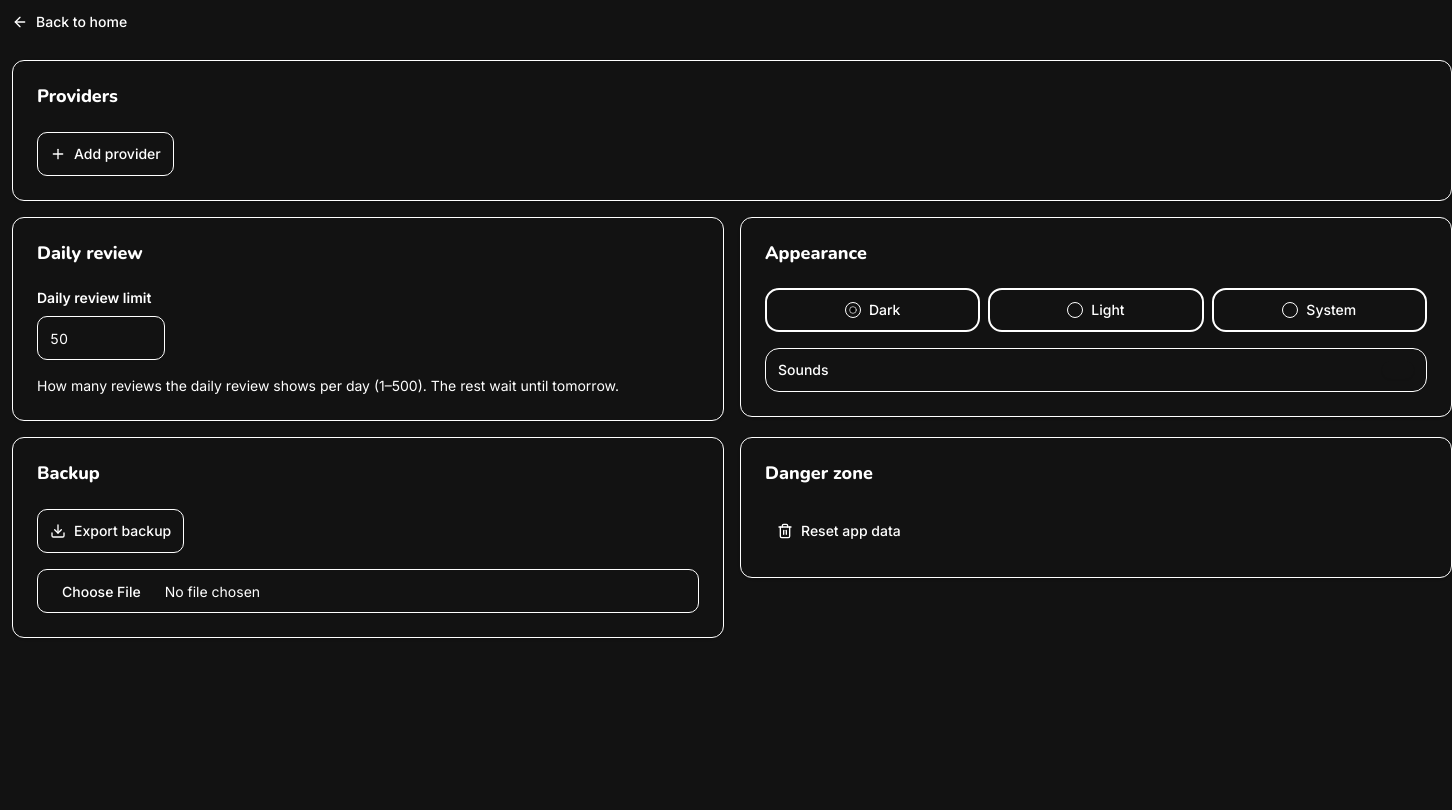
SettingsPage › offers an Ollama host field instead of an API key for Ollama
The width and height of the screenshot is (1452, 810).
Click the button "Add provider". click: click(105, 154)
box: 37,132 -> 174,176
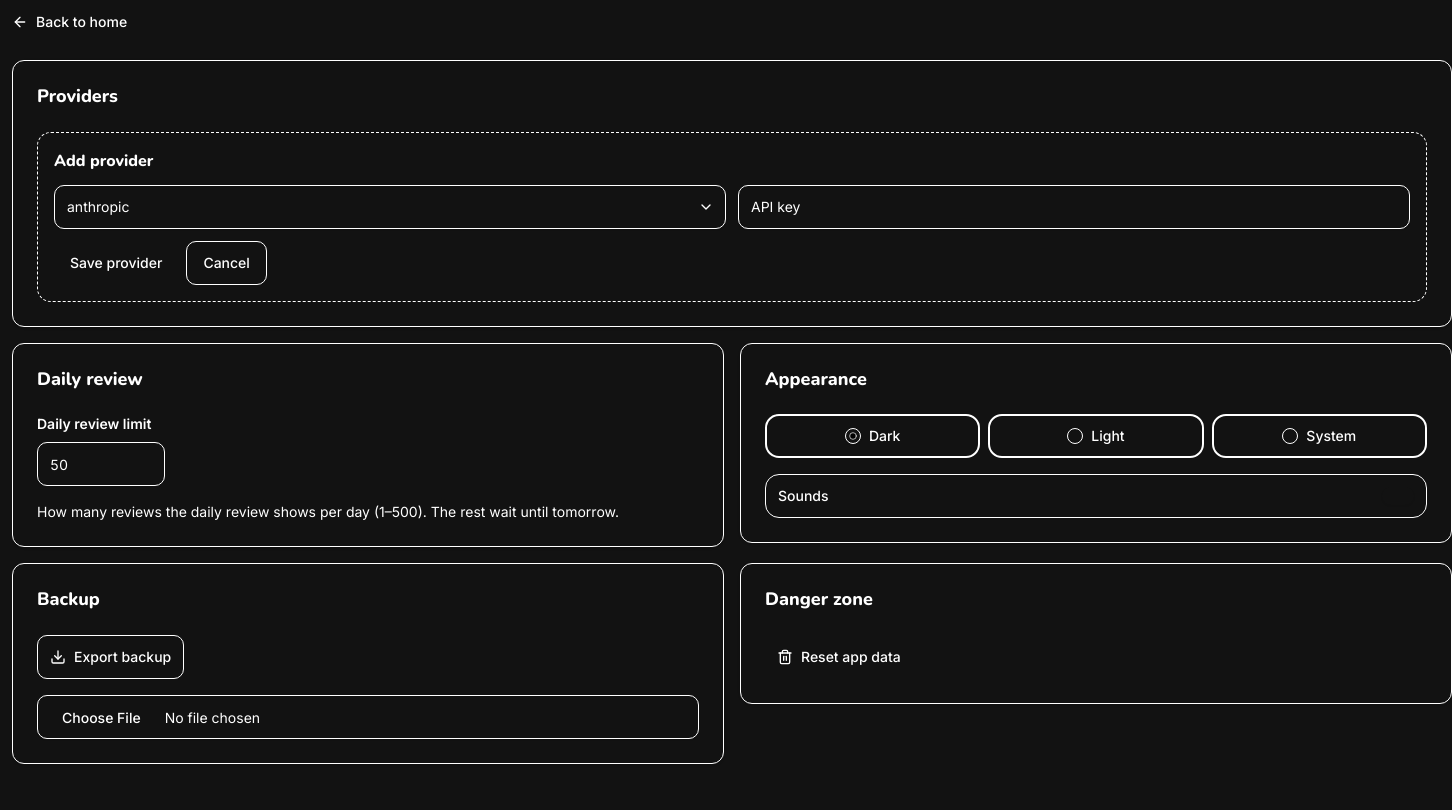
Select "ollama" in the dropdown named "New provider type". click: (390, 206)
box: 54,184 -> 726,228
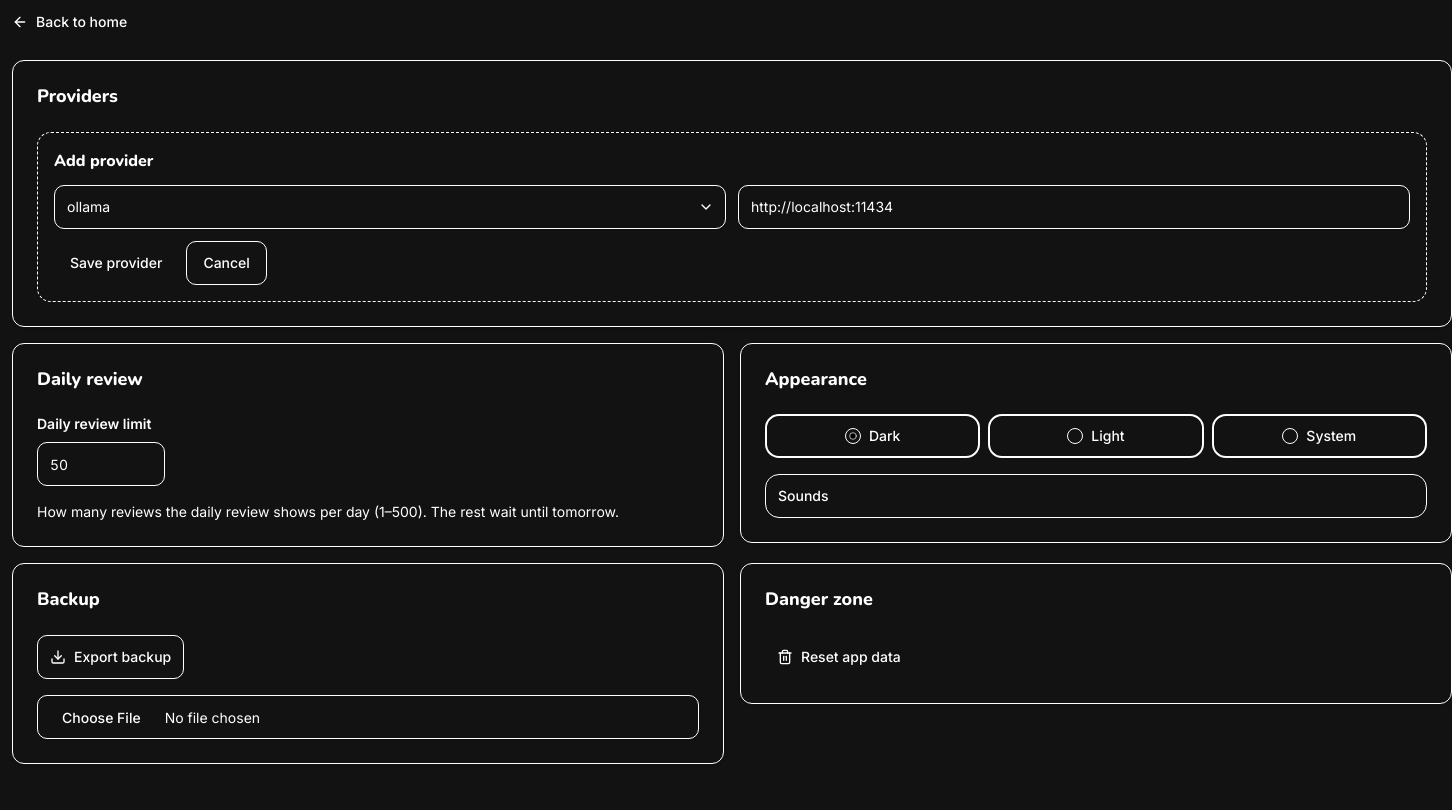
Expected: the field with placeholder "Ollama host" is shown, 738,184 -> 1410,228
